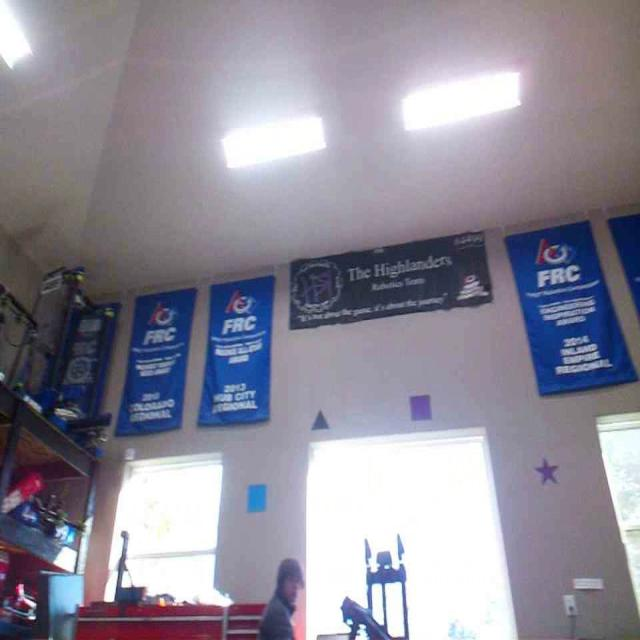square_blue: (244, 482, 266, 512)
square_purple: (408, 393, 431, 419)
star_purple: (536, 455, 560, 484)
triangle_black: (310, 409, 328, 431)
